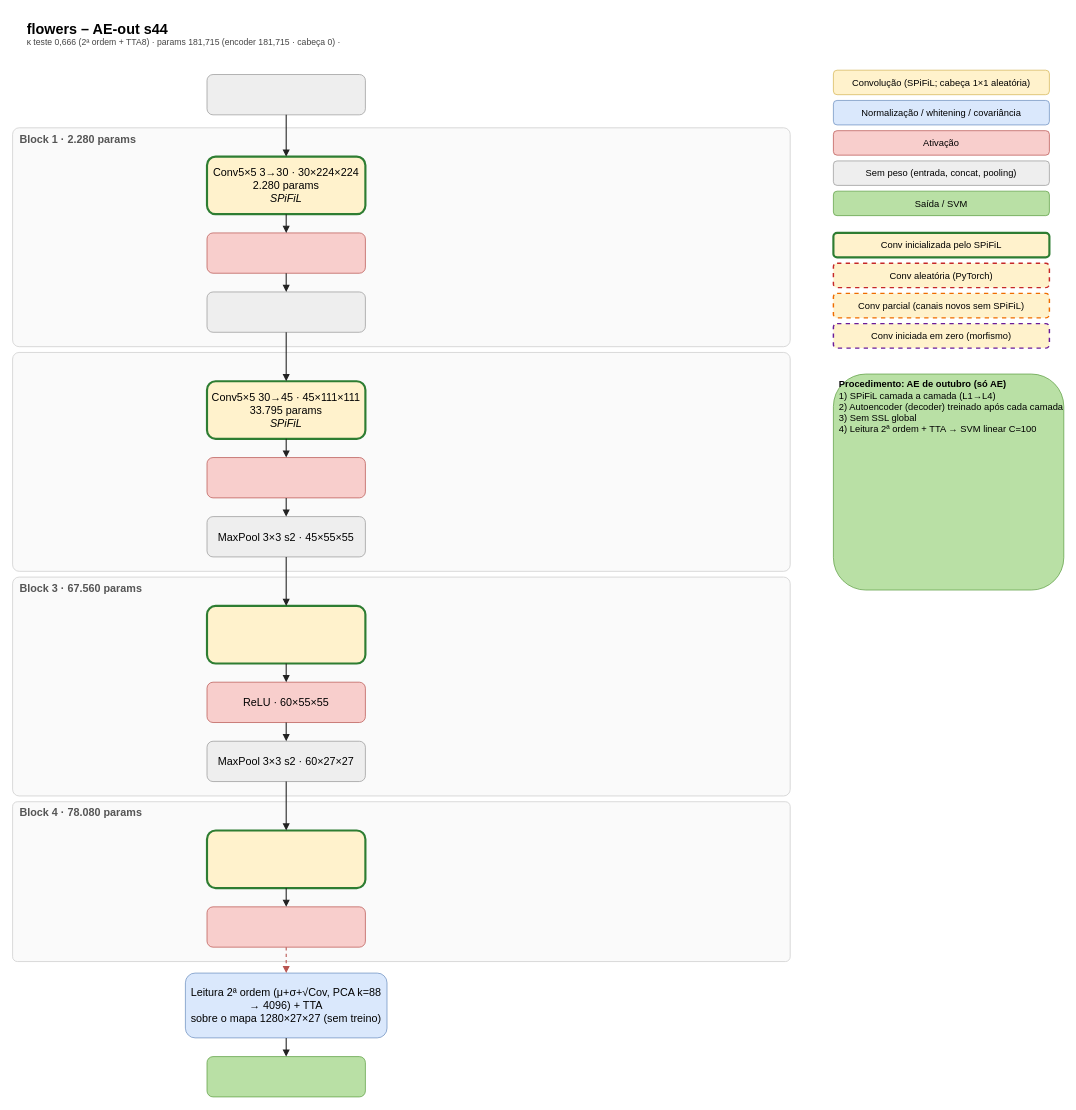
Image size: 1076x1110. Some labels were removed from this diagram. Each missing label, with the box of its shape:
Block 2 · 33.795 params: (12, 352, 790, 571)
Conv1×1 60→1280 · 1280×27×27 78.080 params SPiFiL: (206, 829, 366, 889)
Conv5×5 45→60 · 60×55×55 67.560 params SPiFiL: (206, 604, 366, 664)
Entrada 3×224×224: (206, 74, 365, 115)
MaxPool 3×3 s2 · 30×111×111: (206, 291, 365, 332)
ReLU · 1280×27×27: (206, 906, 365, 947)
ReLU · 30×224×224: (206, 232, 365, 273)
ReLU · 45×111×111: (206, 457, 365, 498)
SVM linear C=100 (teste): (206, 1056, 365, 1097)
